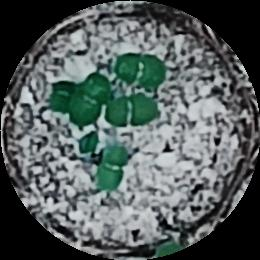Basil: (116, 52, 169, 94), (71, 67, 110, 121), (109, 92, 155, 130), (99, 141, 129, 195), (48, 75, 69, 116)
